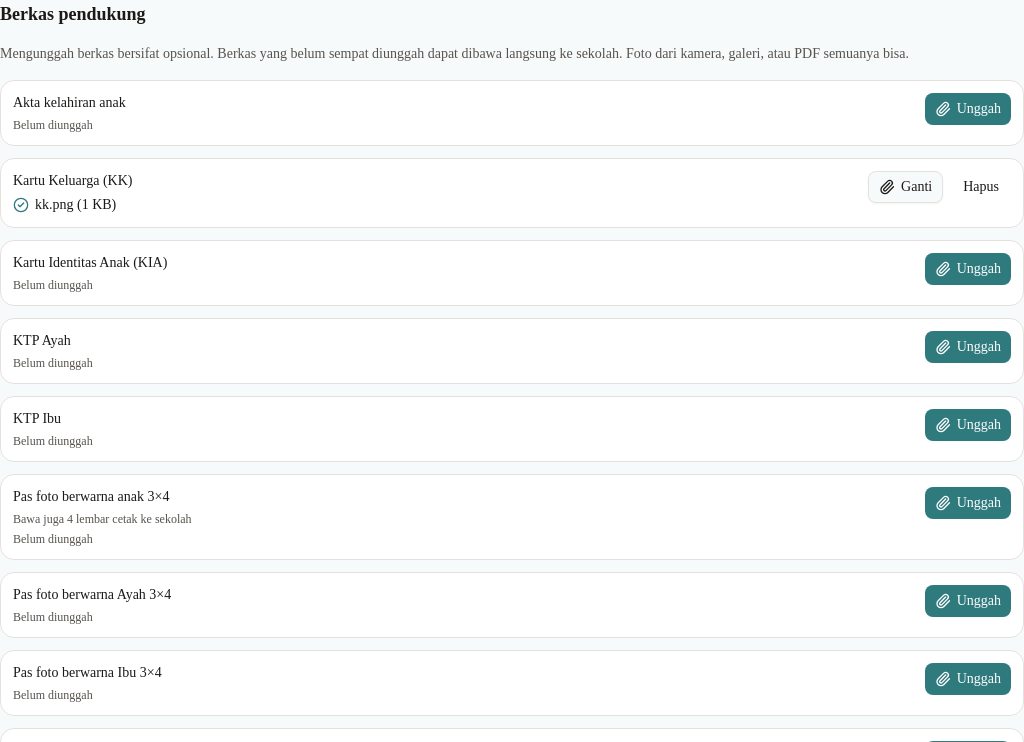
Test: DocumentsStep › cancelling the confirmation deletes nothing and returns focus to Hapus
Click the button with aria-label "Hapus Kartu Keluarga (KK)".
click(981, 187)  # box [951, 171, 1011, 203]
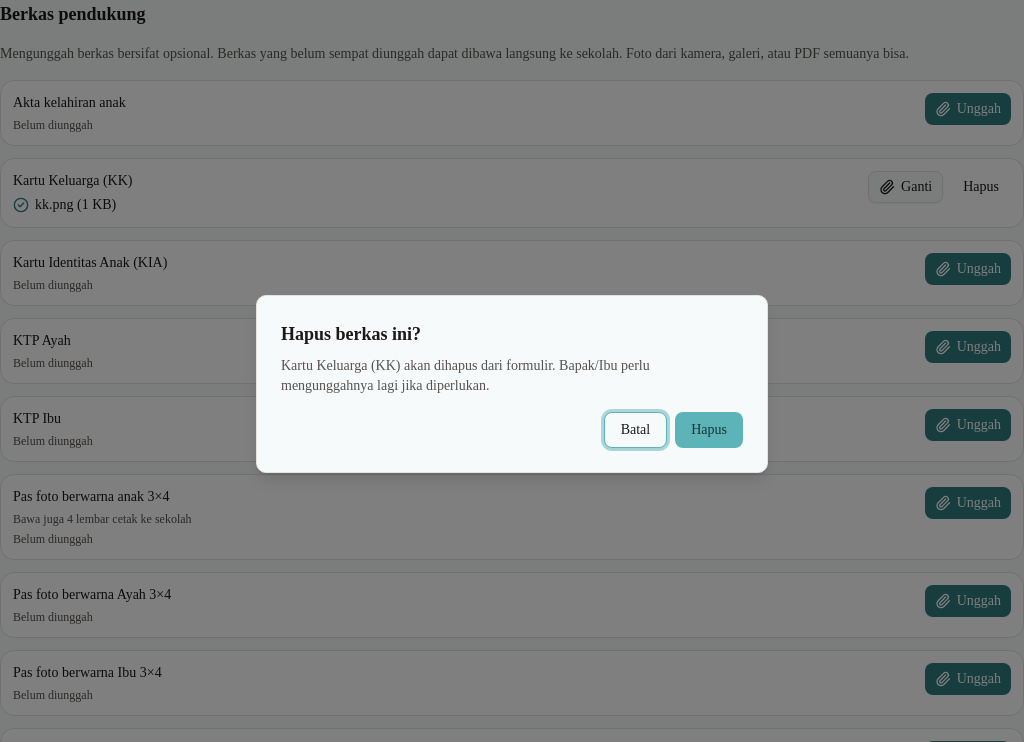
Click the button "Batal".
click(635, 430)  # box [604, 412, 667, 448]
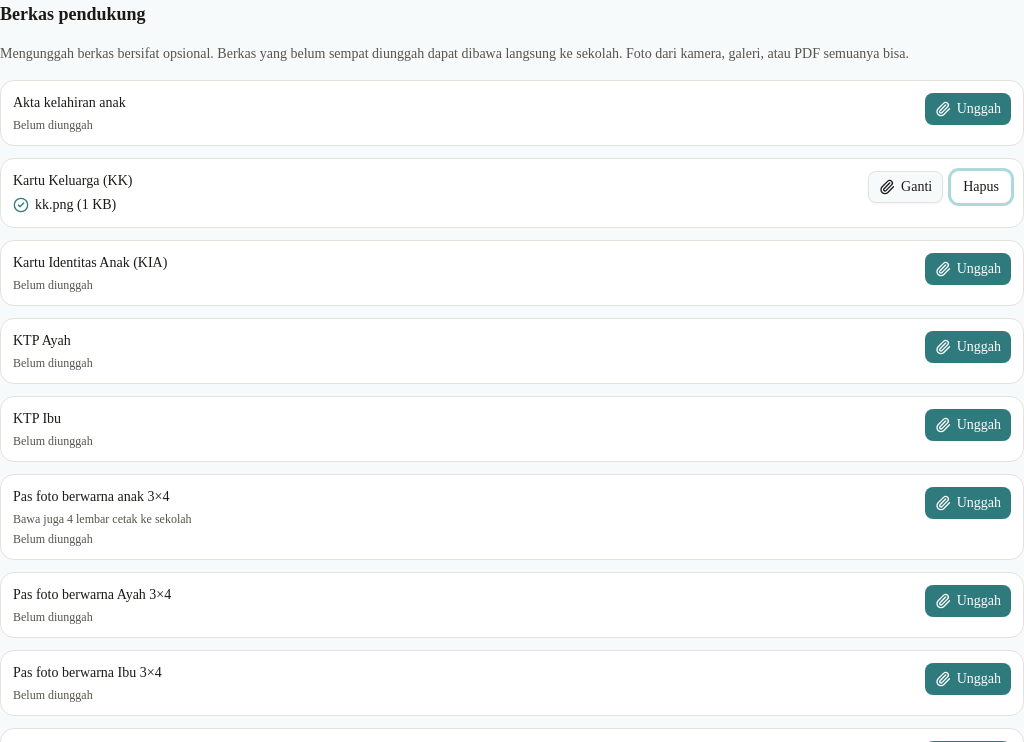
Expected: the text "kk.png (1 KB)" is shown, [35, 195, 116, 215]
Now the heading "Hapus berkas ini?" is gone
